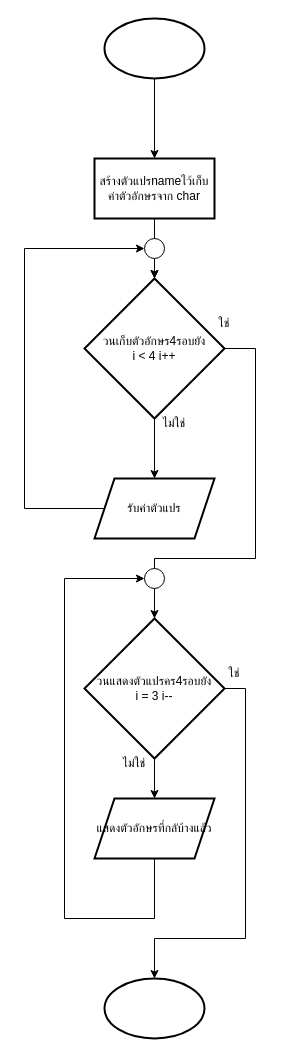
The diagram is 282 pixels wide and 1056 high, and some of its shapes have lost their labels. Each missing label, with the centre of its shape:
end: (154,1008)
start: (154,48)
